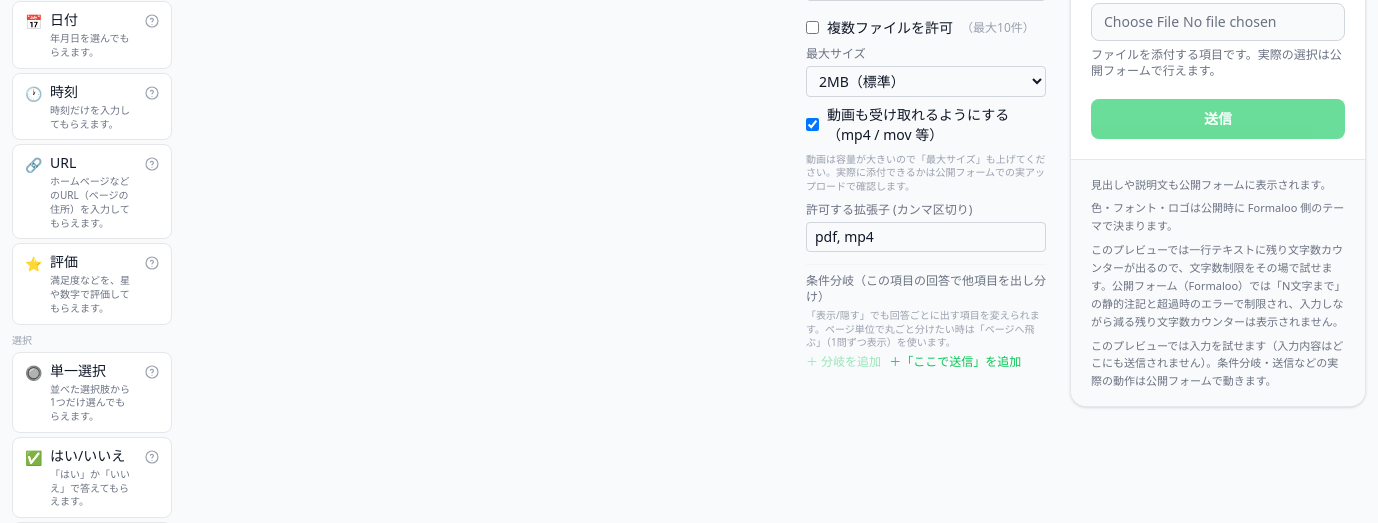
Test case: form-media-limits — 動画を許可 checkbox (T-B2/T-B3) › checked 状態は現 allowedExtensions から都度計算 (手動 input 編集に追随)
(page scrolled)
Check: the checkbox named "動画を許可" is checked, box [806,118,819,131]
許可拡張子 input を手動編集して動画拡張子を外す → checkbox が unchecked に追随
Step 1. Replace the text in the field named "許可拡張子" with "pdf" → (926, 237), box [806,222,1046,252]
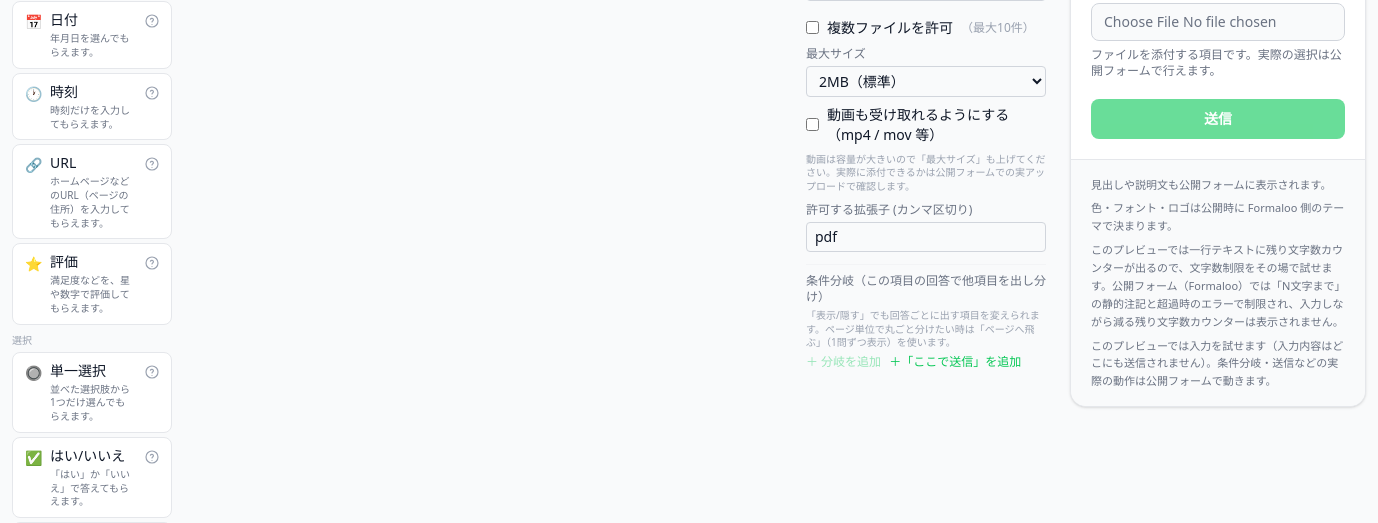
Check: the checkbox named "動画を許可" is not checked, box [806,118,819,131]
